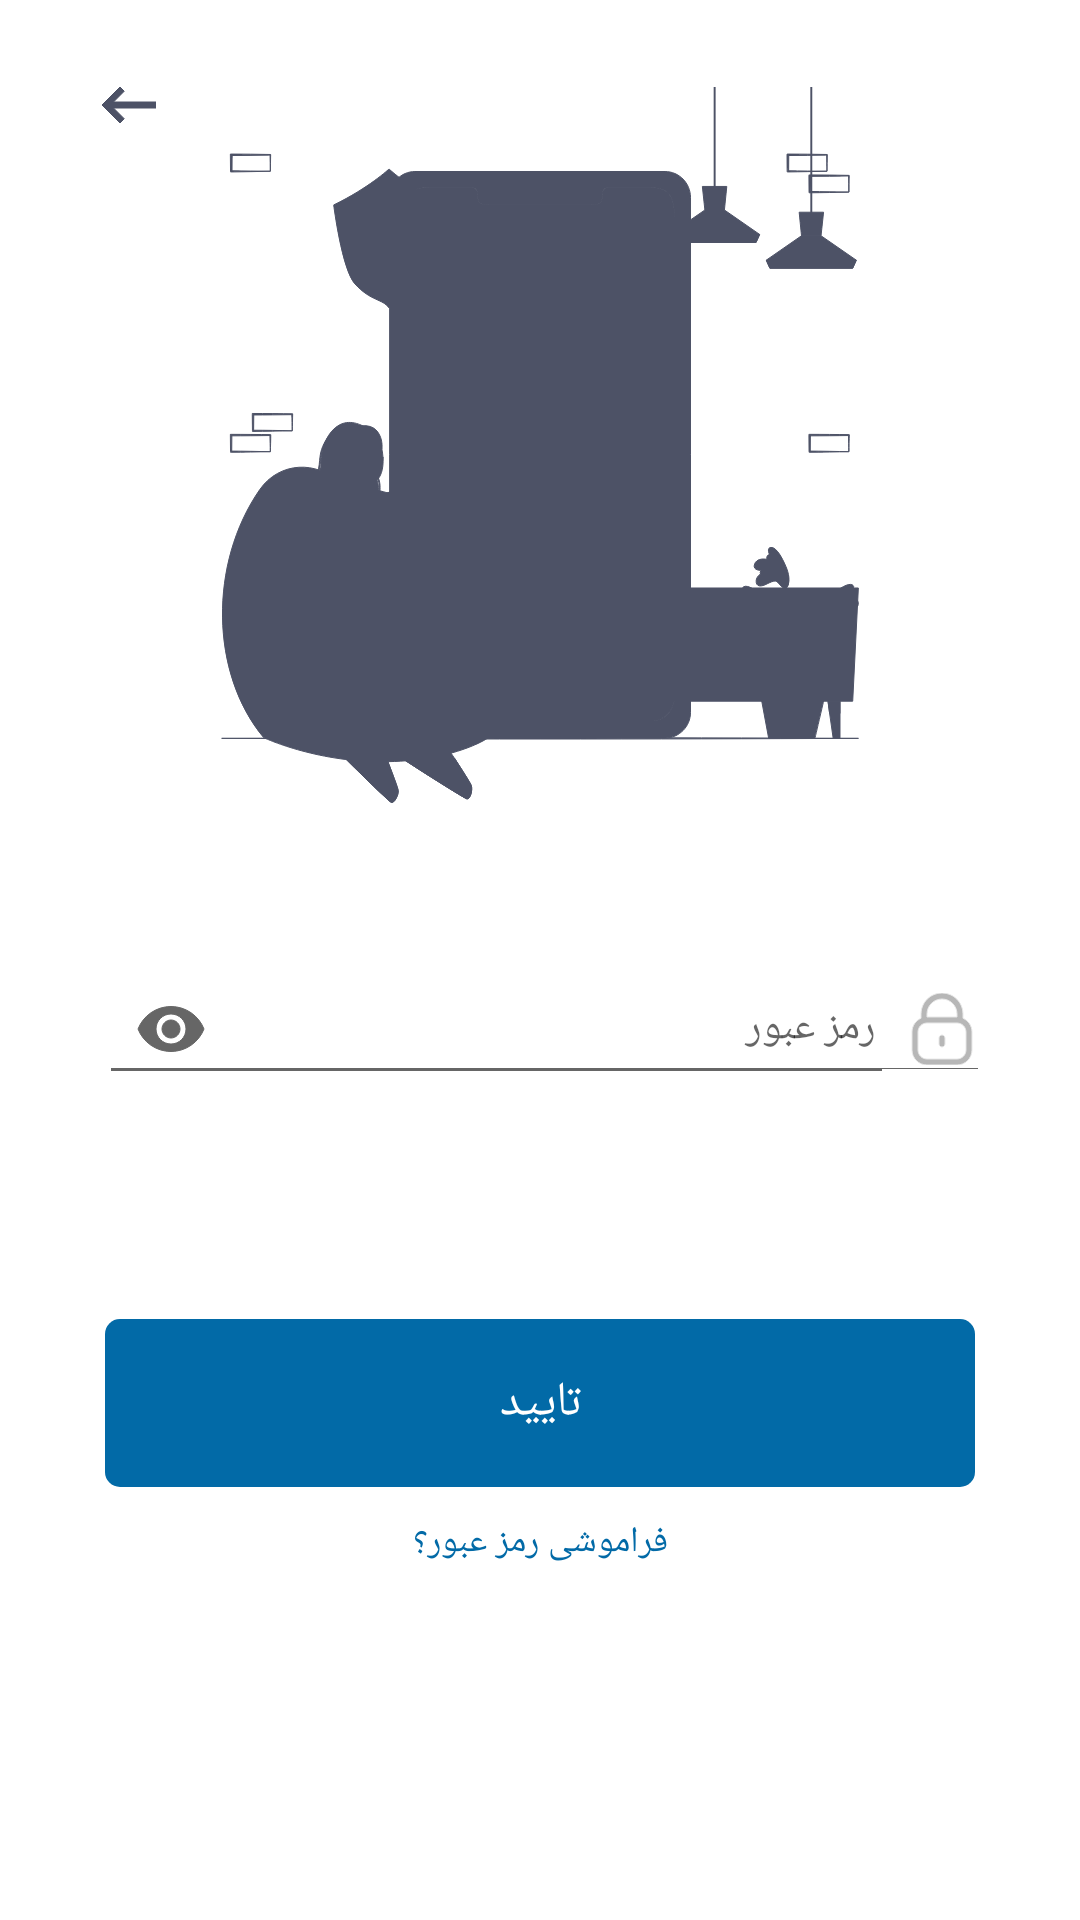

Icon bounding boxes for this 1080x1920 phone screenshot, format (x1, y1, x2, y2):
back: (102, 87, 156, 123)
